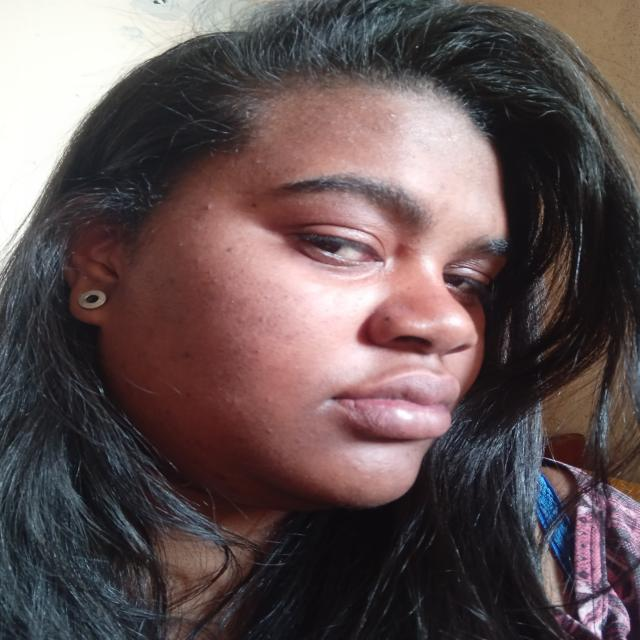Acne: (334, 112, 358, 120), (299, 116, 314, 128), (344, 131, 356, 145), (204, 203, 218, 215), (280, 144, 297, 152), (384, 111, 403, 118), (174, 240, 186, 251), (266, 122, 279, 132), (476, 158, 492, 166), (326, 120, 339, 129), (472, 178, 485, 187), (366, 124, 381, 131), (359, 103, 369, 113), (253, 158, 265, 166)
Englarged-Pores: (232, 312, 276, 327), (257, 287, 280, 310), (200, 268, 226, 286), (236, 343, 264, 359), (256, 422, 280, 437), (220, 295, 246, 305), (221, 395, 242, 405), (355, 482, 368, 496), (260, 394, 272, 407), (292, 434, 304, 446)
